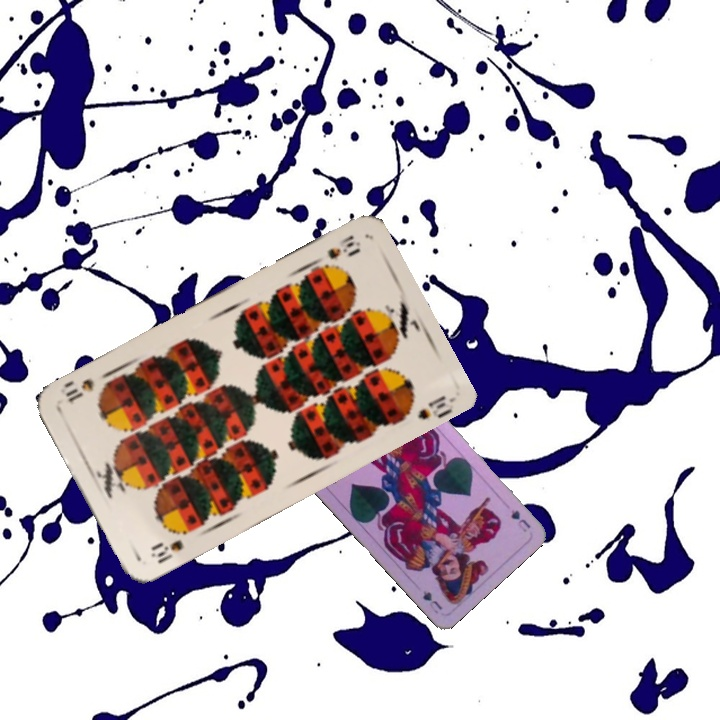GU: (507, 505, 533, 535)
S10: (146, 535, 186, 567), (323, 231, 364, 262)
